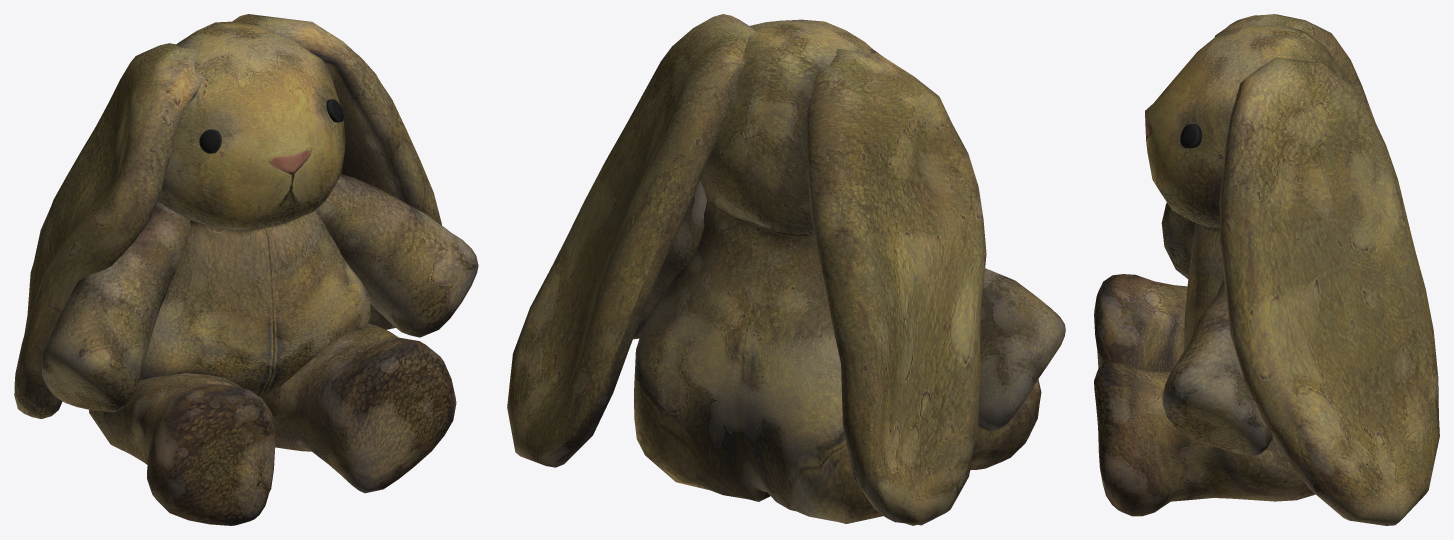
Rendered from SM_RabbitDoll_02.fbx.
3 views of the same model, side by side, from view 1: azimuth 30°, elevation 25°; view 2: azimuth 150°, elevation 25°; view 3: azimuth 270°, elevation 25° (orthographic). The views are drawn at different scales.
Parts seen in each view (by area): view 1: Rabbit_p1; view 2: Rabbit_p1; view 3: Rabbit_p1.
Part boxes in pixels (x1=…): Rabbit_p1: x1=14, y1=14, x2=478, y2=525; Rabbit_p1: x1=507, y1=14, x2=1065, y2=525; Rabbit_p1: x1=1094, y1=14, x2=1439, y2=525.
Bounding box in the file's own units: 115 × 107 × 77.15.
